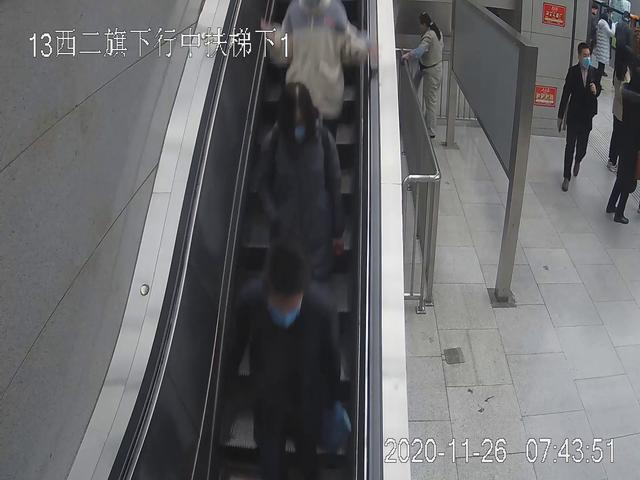person: (220, 244, 347, 480), (252, 83, 353, 328), (260, 1, 369, 222), (558, 44, 600, 191), (403, 13, 447, 138), (606, 80, 640, 225), (592, 13, 617, 80)
